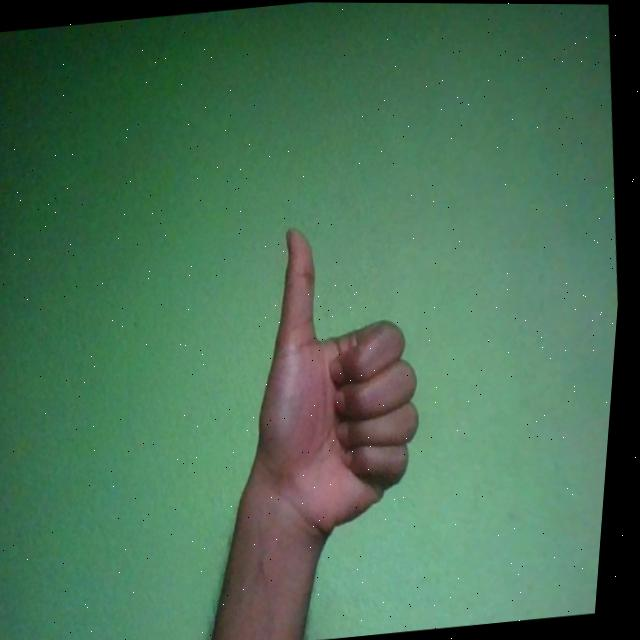Good Job: (235, 211, 449, 552)
